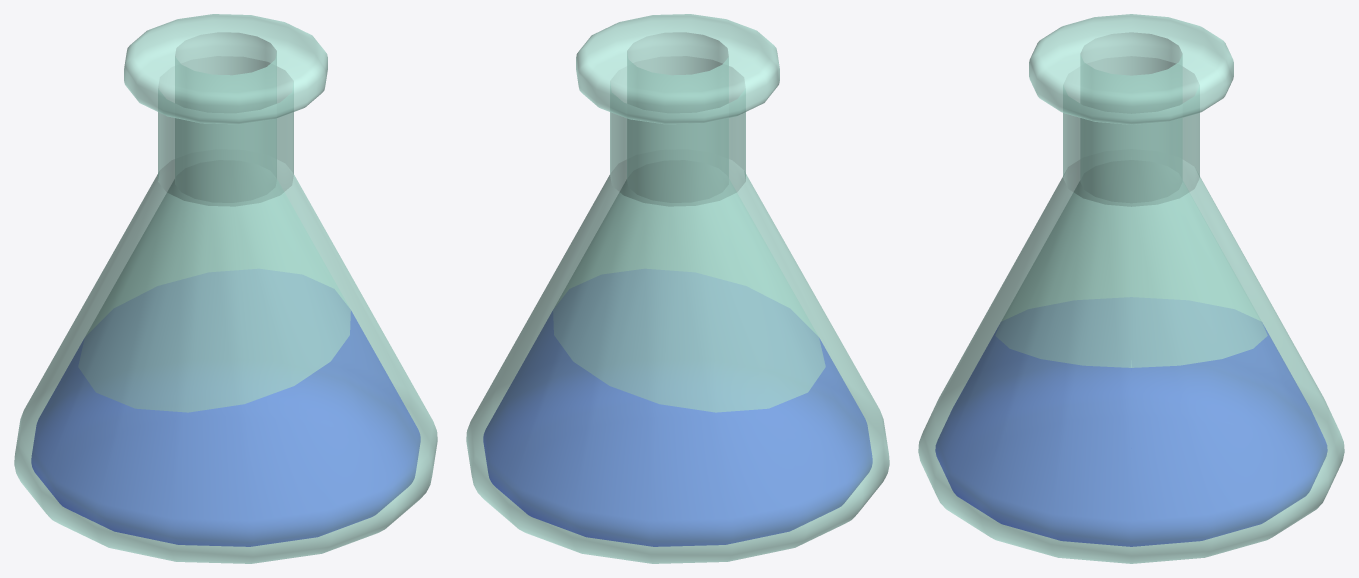
The model's file is #05_Obj_Bottle.FBX.
3 views of the same model, side by side, from view 1: azimuth 30°, elevation 25°; view 2: azimuth 150°, elevation 25°; view 3: azimuth 270°, elevation 25° (orthographic).
Parts seen in each view (by area): view 1: #05_Obj_Bottle_001; view 2: #05_Obj_Bottle_001; view 3: #05_Obj_Bottle_001.
Boxes of the visible parts, <box> form: #05_Obj_Bottle_001: <box>14,14,437,563</box>; #05_Obj_Bottle_001: <box>466,14,889,563</box>; #05_Obj_Bottle_001: <box>918,14,1344,563</box>.
Bounding box in the file's own units: 623 × 623 × 700.
